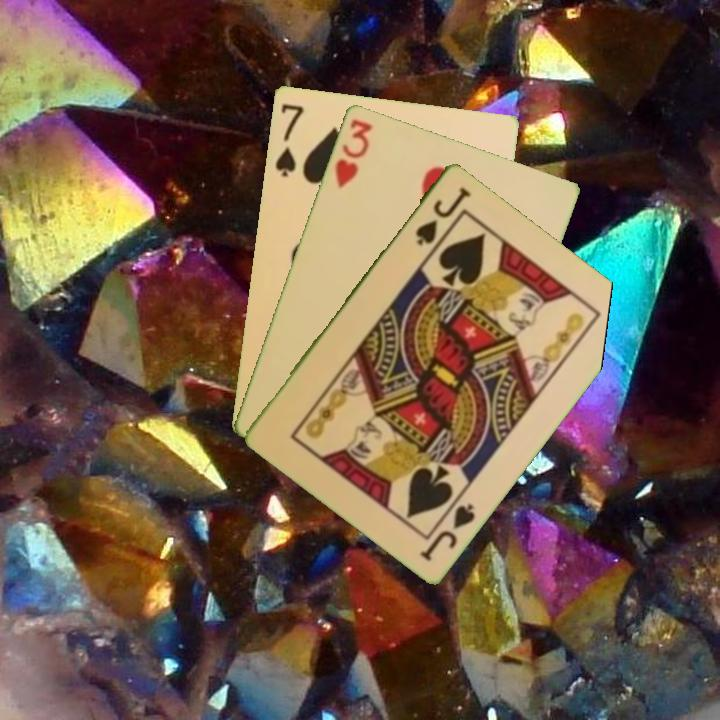3h: (331, 115, 375, 191)
7s: (271, 100, 306, 180)
Js: (416, 499, 478, 564), (412, 183, 472, 248)
